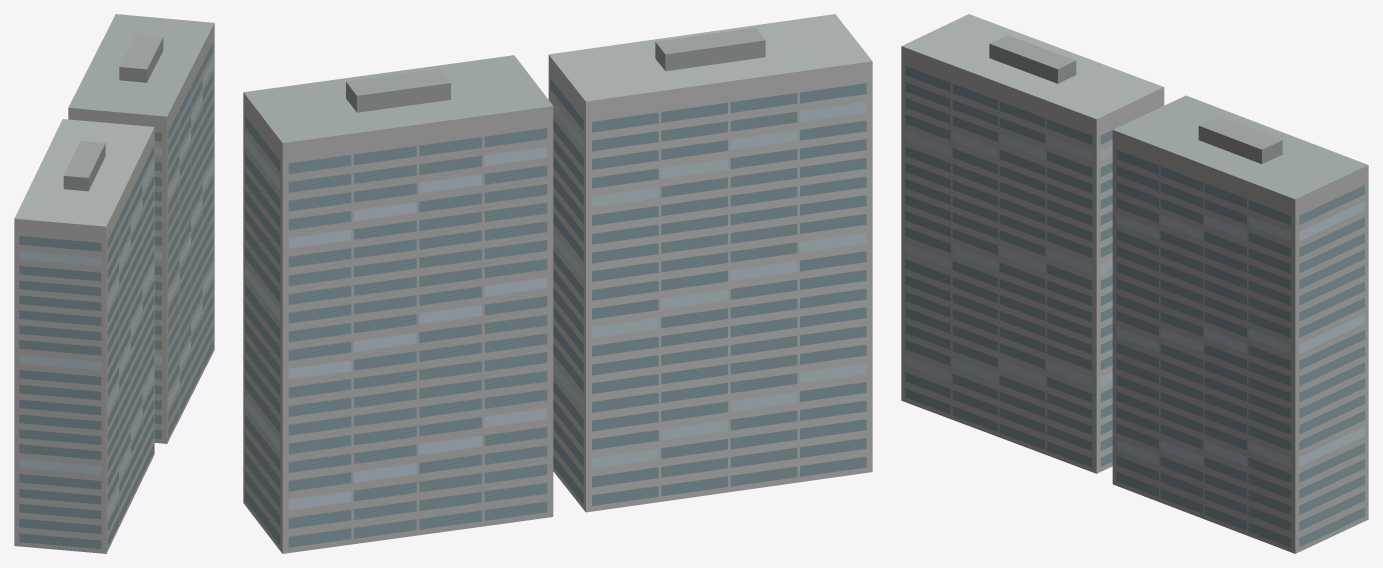
File: apt-a12101001.glb
The picture shows the model from 3 angles, left to right: view 1: azimuth 30°, elevation 25°; view 2: azimuth 150°, elevation 25°; view 3: azimuth 270°, elevation 25°; orthographic projection. The views are drawn at different scales.
Parts seen in each view (by area): view 1: apt-a12101001; view 2: apt-a12101001; view 3: apt-a12101001.
Part boxes in pixels (x1,y1,x2,y2): apt-a12101001: [14, 14, 214, 553]; apt-a12101001: [243, 14, 872, 553]; apt-a12101001: [901, 14, 1368, 553].
Size of the model in its own units: 65.71 by 61 by 69.95.
